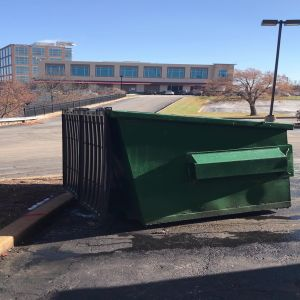Dumpster: (57, 105, 297, 229)
